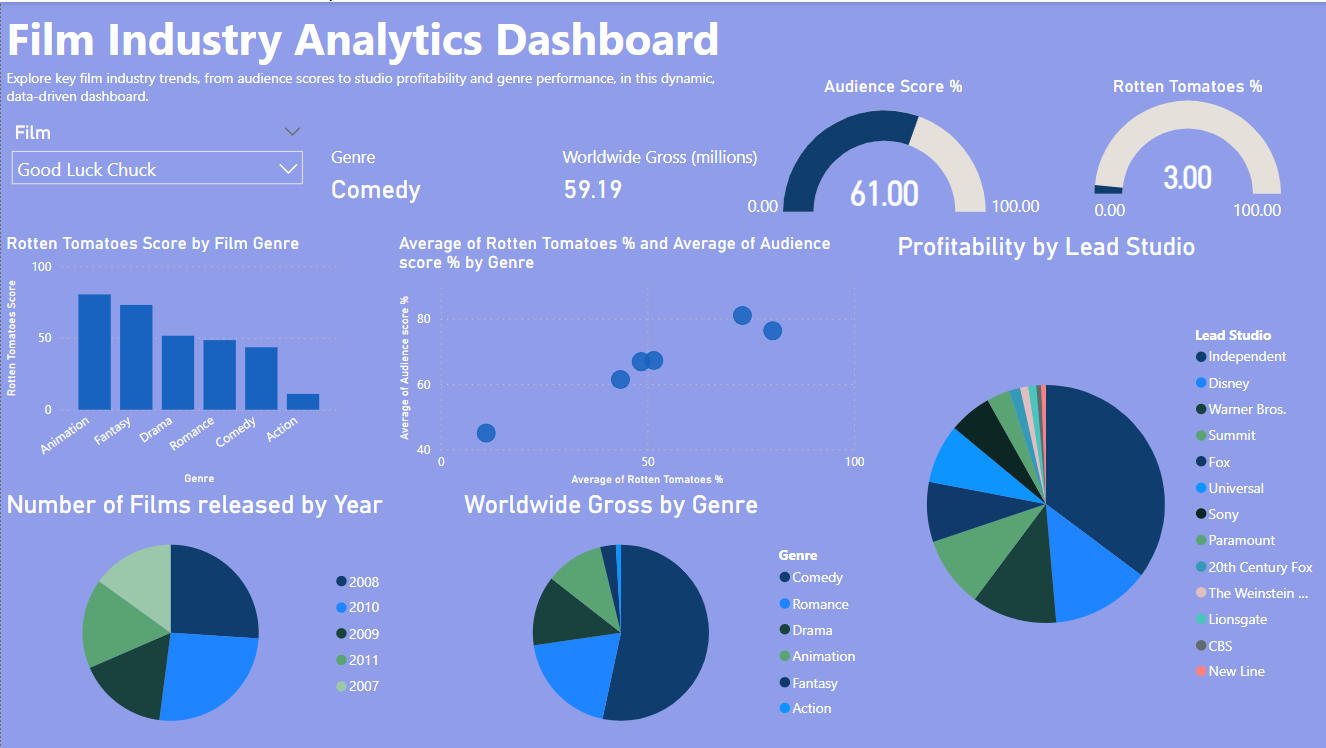

The dashboard page shown, as its layout file describes it:
{"tool":"powerbi","page":{"name":"Dashboard","canvas":[1280,720],"ordinal":0},"visuals":[{"type":"clusteredColumnChart","title":"Rotten Tomatoes Score by Film Genre","fields":{"Y":["Avg(Cleaned Movie Data.Rotten Tomatoes %)"],"Category":["Cleaned Movie Data.Genre"]},"box":[0,221.9,329.2,248.4],"z":0},{"type":"pieChart","title":"Number of Films released by Year","fields":{"Category":["Cleaned Movie Data.Year.Variation.Date Hierarchy.Year"],"Y":["CountNonNull(Cleaned Movie Data.Film)"]},"box":[0,470.4,378.7,249.6],"z":1000},{"type":"slicer","fields":{"Values":["Cleaned Movie Data.Film"]},"box":[0,111,301.5,69.9],"z":2000},{"type":"textbox","box":[0,0,710.8,83.7],"z":3000},{"type":"gauge","title":"Audience Score %","fields":{"Y":["Avg(Cleaned Movie Data.Audience  score %)"]},"box":[710.4,71.2,301.5,150.8],"z":4000},{"type":"gauge","title":"Rotten Tomatoes %","fields":{"Y":["Avg(Cleaned Movie Data.Rotten Tomatoes %)"]},"box":[1010.7,71.2,268.9,150.8],"z":5000},{"type":"pieChart","title":"Profitability by Lead Studio","fields":{"Category":["Cleaned Movie Data.Lead Studio"],"Y":["Sum(Cleaned Movie Data.Profitability)"]},"box":[859.9,221.9,420.9,498.1],"z":6000},{"type":"pieChart","title":"Worldwide Gross by Genre","fields":{"Y":["Sum(Cleaned Movie Data.Worldwide Gross)"],"Category":["Cleaned Movie Data.Genre"]},"box":[441.4,470.4,396.8,249.6],"z":7000},{"type":"cardVisual","fields":{"Data":["Min(Cleaned Movie Data.Genre)","Sum(Cleaned Movie Data.Worldwide Gross)"]},"box":[301.5,111,447.4,111],"z":8000},{"type":"textbox","box":[0,41,695.9,83.2],"z":9000},{"type":"scatterChart","fields":{"X":["Cleaned Movie Data.Rotten Tomatoes %"],"Y":["Cleaned Movie Data.Audience  score %"],"Category":["Cleaned Movie Data.Genre"]},"box":[378.7,221.9,459.5,249.6],"z":10000}]}

Visuals, with their boxes in screenshot pixels (x1, y1, x2, y2), scaled from the page's 1280x720 canvas onto the 1326x748 screenshot:
"Rotten Tomatoes Score by Film Genre" clusteredColumnChart: pyautogui.locateOnScreen(0, 231, 341, 489)
"Number of Films released by Year" pieChart: pyautogui.locateOnScreen(0, 489, 392, 747)
slicer - Cleaned Movie Data.Film: pyautogui.locateOnScreen(0, 115, 312, 188)
textbox: pyautogui.locateOnScreen(0, 0, 736, 87)
"Audience Score %" gauge: pyautogui.locateOnScreen(736, 74, 1048, 231)
"Rotten Tomatoes %" gauge: pyautogui.locateOnScreen(1047, 74, 1325, 231)
"Profitability by Lead Studio" pieChart: pyautogui.locateOnScreen(891, 231, 1325, 747)
"Worldwide Gross by Genre" pieChart: pyautogui.locateOnScreen(457, 489, 868, 747)
cardVisual - Min(Cleaned Movie Data.Genre) x Sum(Cleaned Movie Data.Worldwide Gross): pyautogui.locateOnScreen(312, 115, 776, 231)
textbox: pyautogui.locateOnScreen(0, 43, 721, 129)
scatterChart - Cleaned Movie Data.Rotten Tomatoes % x Cleaned Movie Data.Audience  score %: pyautogui.locateOnScreen(392, 231, 868, 490)
